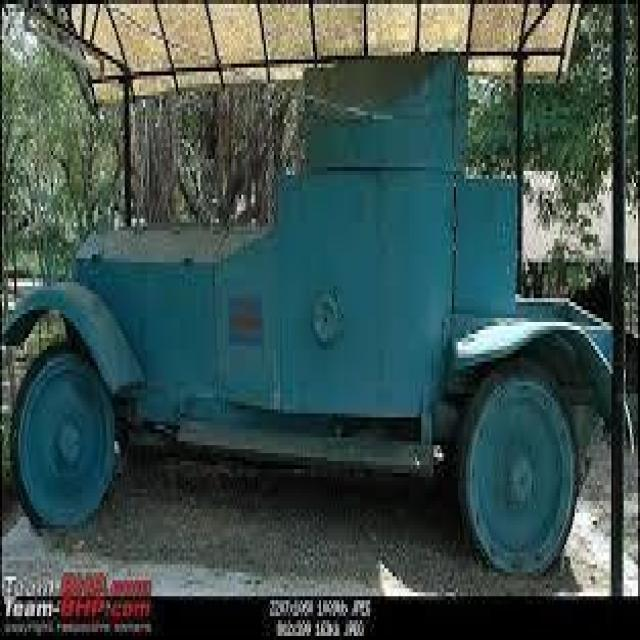MIL_MBT: (20, 87, 597, 568)
